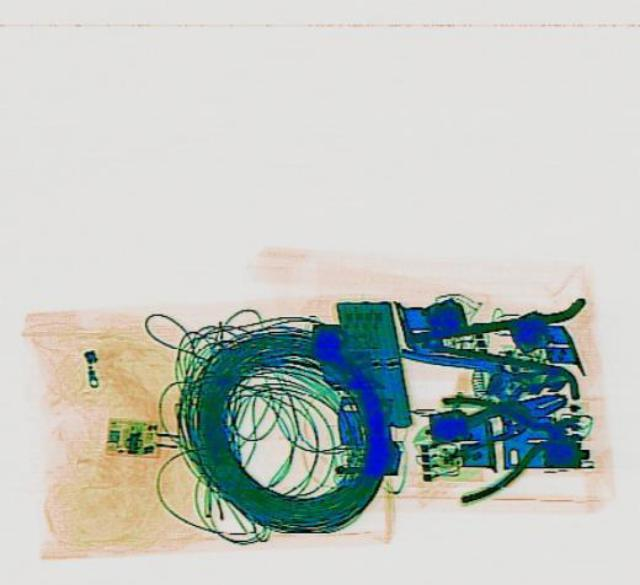Pliers: (440, 384, 590, 501), (418, 379, 574, 463)
